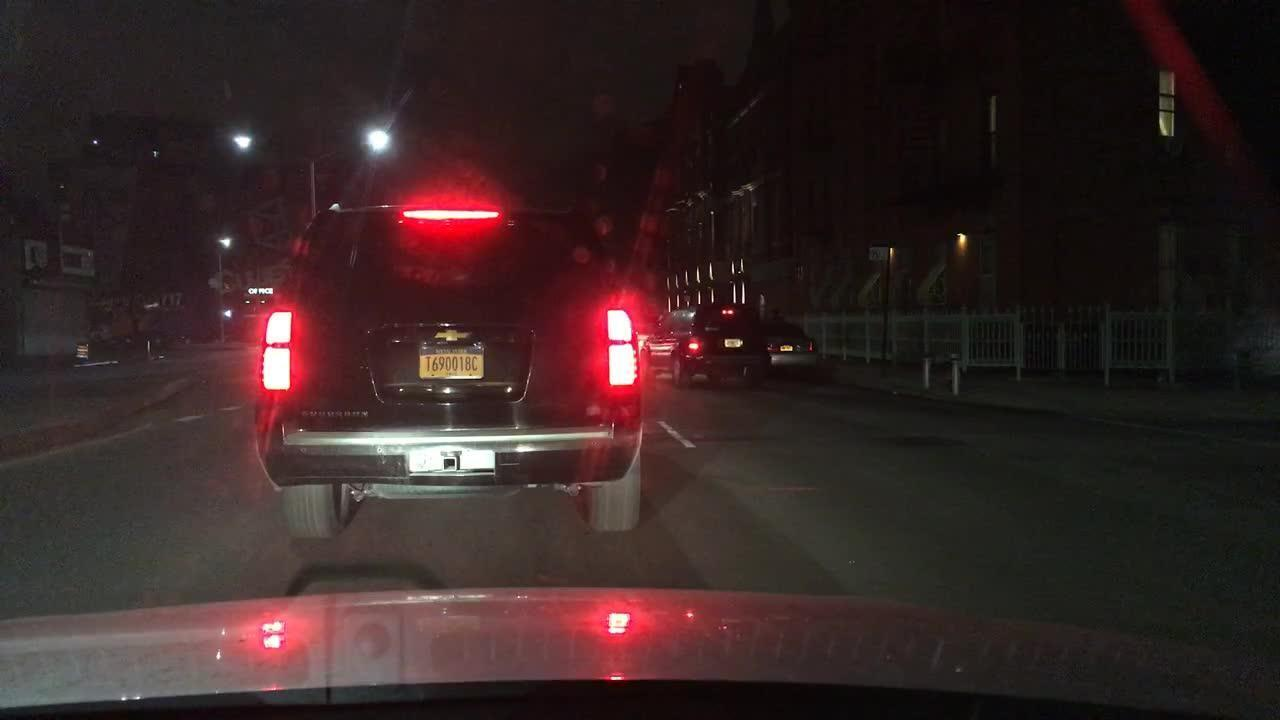chevrolet: (427, 321, 486, 349)
